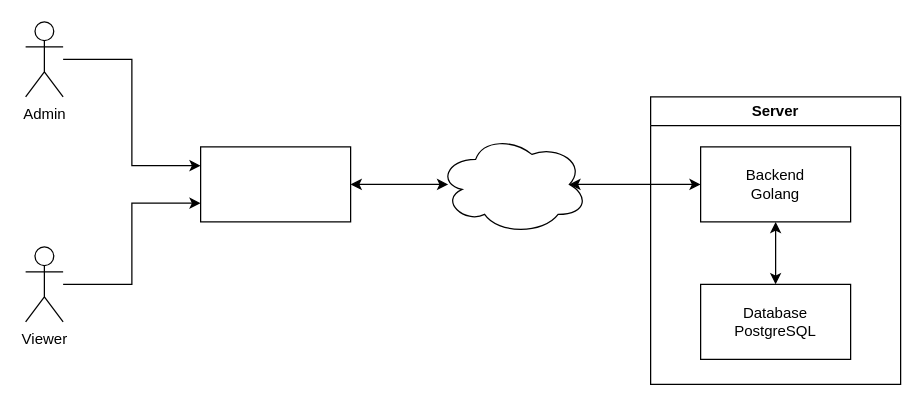
Some shapes in this 923 by 406 pixel diagram are drawn without their labels. Each missing label, with the centre of its shape:
"Frontend Astro" belongs at pixel 275 184.
"Internet" belongs at pixel 512 183.
